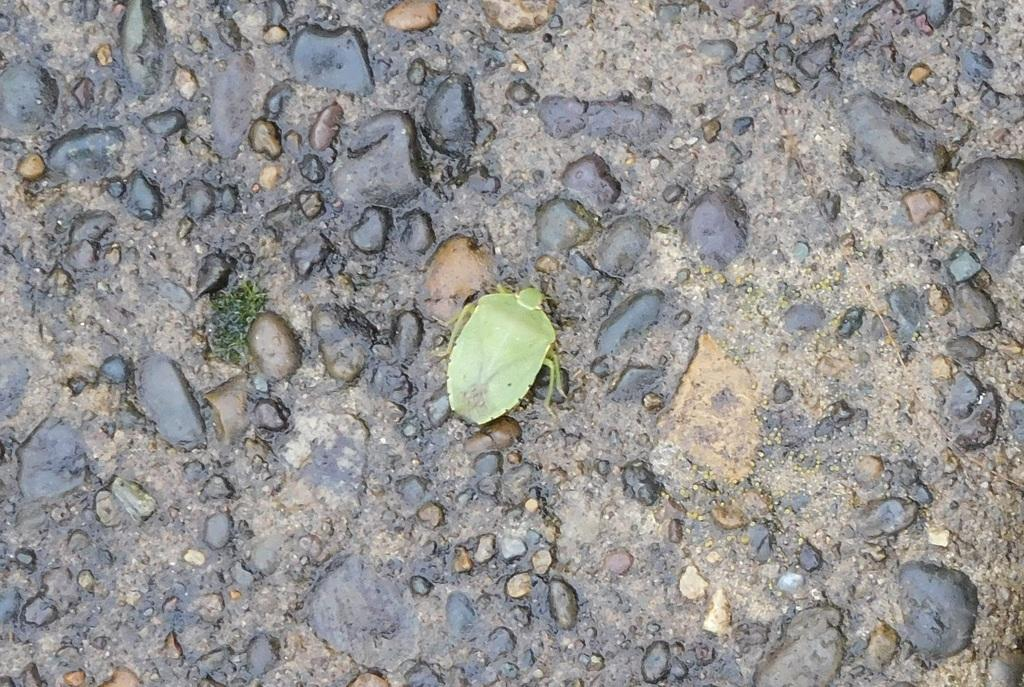stink_bugs: (421, 247, 606, 458)
